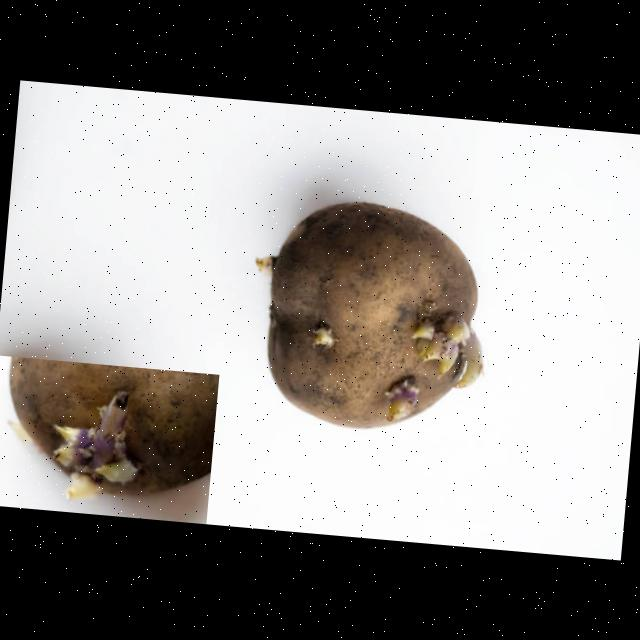Sprouted potato: (244, 188, 508, 444), (0, 355, 219, 524)
